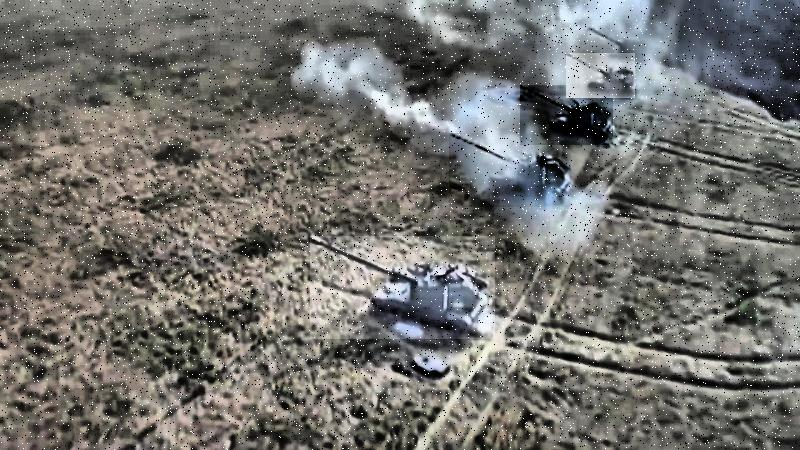military-vehicle: (310, 236, 495, 339), (449, 134, 571, 208), (521, 86, 614, 146), (566, 54, 635, 99)
